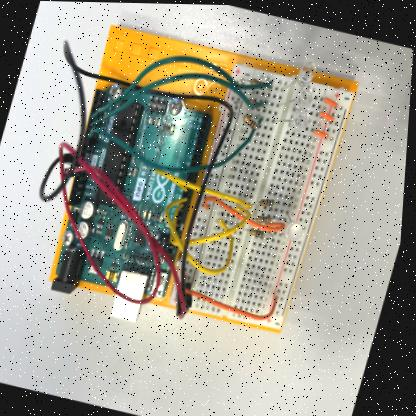5V: (55, 133, 163, 310)
ARDUINO: (58, 80, 219, 300)
Breadboard: (171, 58, 356, 327)
GND: (32, 36, 245, 300)
LED: (288, 219, 305, 239)
Long wire: (91, 46, 275, 122), (87, 114, 265, 177), (89, 64, 261, 126), (167, 193, 246, 281), (151, 166, 261, 211), (167, 201, 259, 253), (199, 192, 289, 235), (189, 288, 281, 319)
Phototransistor: (297, 60, 317, 85), (291, 109, 312, 130), (295, 86, 314, 109)
Resistor: (244, 112, 260, 127), (245, 97, 265, 106), (252, 227, 269, 237), (256, 213, 274, 222), (260, 197, 278, 206), (251, 77, 262, 83)
Short wire: (325, 95, 339, 106), (321, 110, 336, 120), (315, 127, 330, 137)
